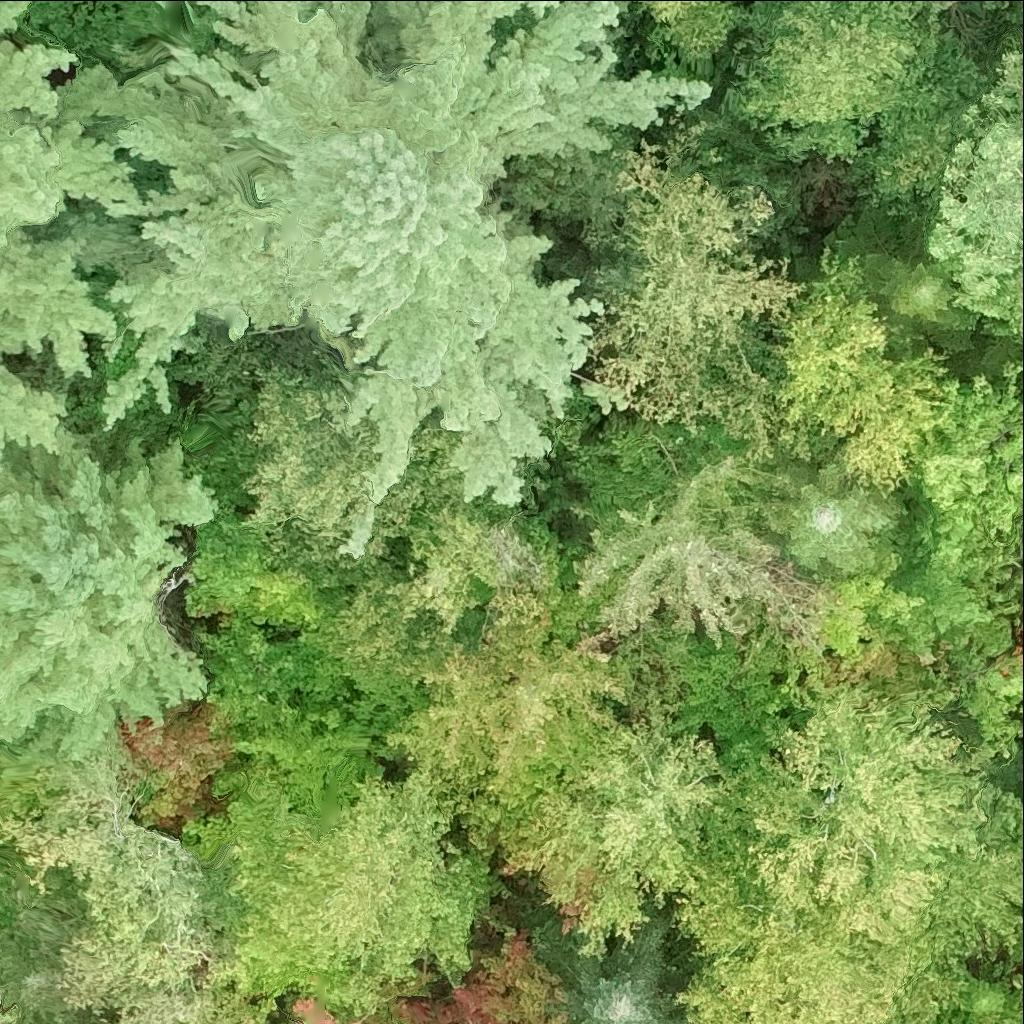crown: (104, 0, 713, 552), (0, 39, 179, 470), (580, 141, 814, 457), (0, 428, 215, 761), (231, 766, 490, 1016), (384, 584, 628, 848), (754, 691, 991, 943), (532, 712, 731, 963), (569, 455, 822, 651), (746, 250, 951, 484), (675, 869, 932, 1023), (732, 0, 949, 164), (52, 826, 238, 1012), (815, 555, 1014, 708), (669, 627, 849, 787), (927, 50, 1023, 343), (384, 491, 567, 632), (237, 379, 383, 555), (826, 205, 978, 359), (0, 726, 140, 893), (903, 361, 1023, 549), (230, 695, 384, 831), (186, 514, 349, 630), (528, 905, 686, 1023), (197, 615, 347, 735), (388, 927, 567, 1023), (761, 464, 905, 573), (330, 580, 462, 697), (907, 505, 1023, 588), (904, 571, 1023, 632), (962, 651, 1023, 760), (116, 986, 273, 1023), (640, 0, 735, 53), (935, 975, 1023, 1023), (0, 0, 30, 37), (294, 999, 336, 1023), (1008, 799, 1023, 860), (1017, 556, 1023, 583), (351, 1019, 372, 1023), (249, 1020, 256, 1023), (1022, 539, 1023, 543)
